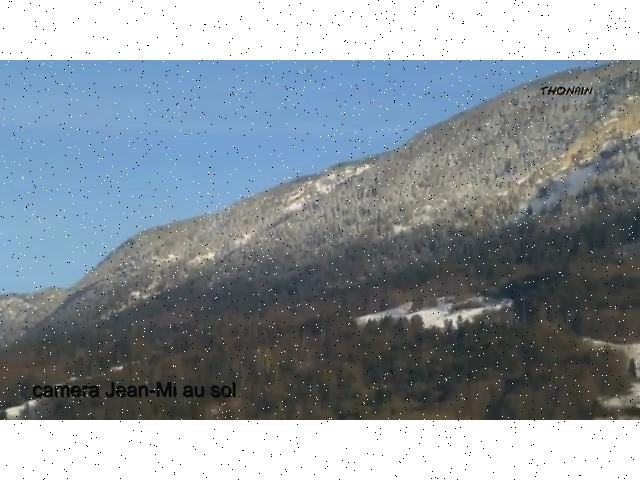Anti-Drone: (290, 64, 318, 85)
